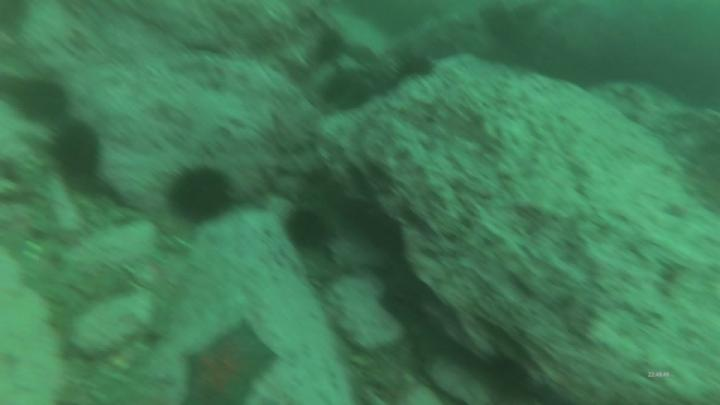echinus: (169, 163, 235, 228), (54, 116, 102, 185), (20, 78, 71, 126), (485, 353, 532, 405), (284, 205, 331, 257), (360, 211, 407, 260), (313, 28, 350, 69), (394, 55, 437, 80)
starfish: (176, 319, 279, 405)
